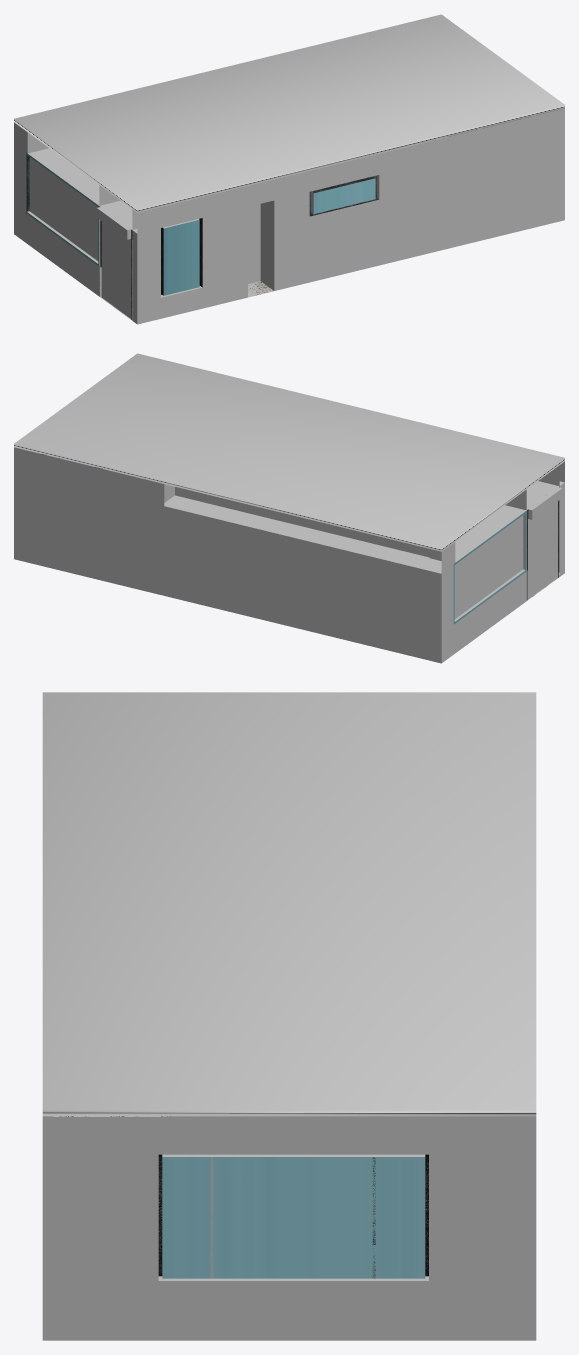
The model's file is PruebaPosta.fbx.
3 views of the same model, one above another, from view 1: azimuth 30°, elevation 25°; view 2: azimuth 150°, elevation 25°; view 3: azimuth 270°, elevation 25° (orthographic). The views are drawn at different scales.
Parts seen in each view (by area): view 1: Plane, Plane.001, Vidrios, marcos; view 2: Plane, Plane.001, Vidrios; view 3: Plane.001, Plane, Vidrios, marcos.
Boxes of the visible parts, left/top/right/bottom form: Plane: left=14, top=108, right=564, bottom=324; Plane.001: left=14, top=14, right=564, bottom=212; Vidrios: left=26, top=116, right=529, bottom=295; marcos: left=27, top=118, right=521, bottom=319; Plane: left=14, top=447, right=564, bottom=663; Plane.001: left=14, top=353, right=564, bottom=551; Vidrios: left=46, top=455, right=526, bottom=624; Plane.001: left=42, top=692, right=536, bottom=1116; Plane: left=42, top=1116, right=536, bottom=1340; Vidrios: left=162, top=1157, right=425, bottom=1278; marcos: left=158, top=1154, right=428, bottom=1278.
Bounding box in the file's own units: 1816 × 465 × 900.
